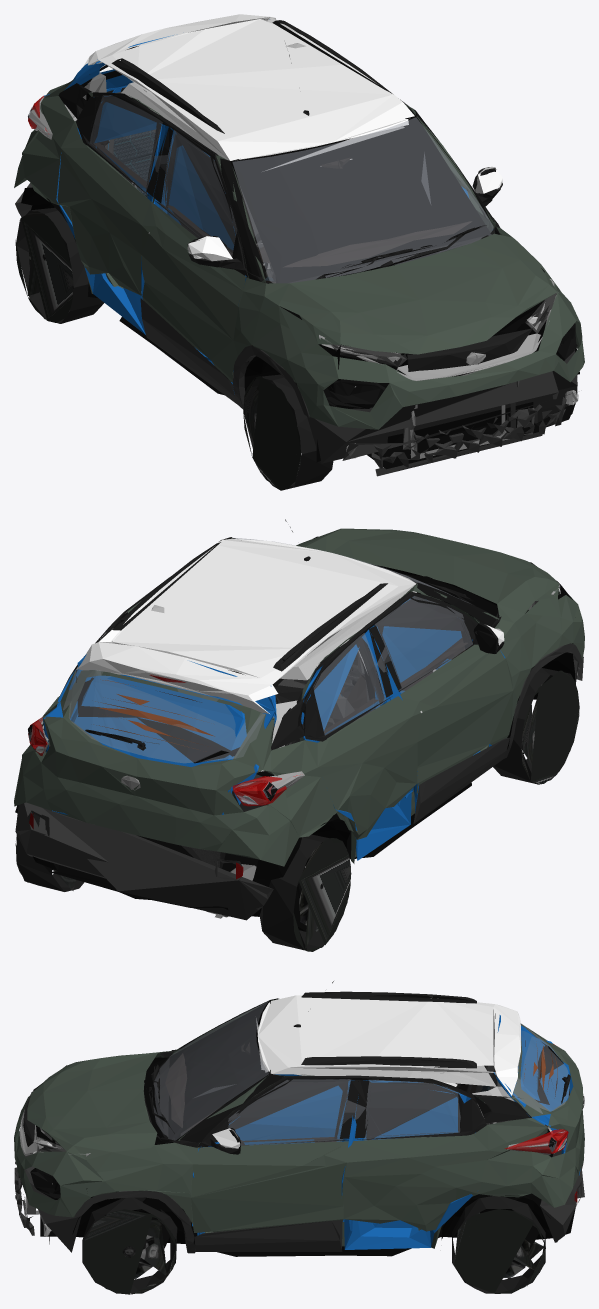
Rendered from punch.glb.
The picture shows the model from 3 angles, top to bottom: view 1: azimuth 30°, elevation 25°; view 2: azimuth 150°, elevation 25°; view 3: azimuth 270°, elevation 25°; orthographic projection. The views are drawn at different scales.
Visible parts, largest first — view 1: Mesh_005_prim85, Mesh_005_prim13, Mesh_005_prim15, Mesh_005_prim30, Mesh_005_prim20, Mesh_005_prim48, Mesh_005_prim36, Mesh_005_prim0, Mesh_005_prim5, Mesh_005_prim37, Mesh_005_prim86, Mesh_005_prim4 (+6 smaller); view 2: Mesh_005_prim85, Mesh_005_prim30, Mesh_005_prim13, Mesh_005_prim20, Mesh_005_prim0, Mesh_005_prim36, Mesh_005_prim48, Mesh_005_prim15, Mesh_005_prim37, Mesh_005_prim5, Mesh_005_prim72, Mesh_005_prim86 (+6 smaller); view 3: Mesh_005_prim85, Mesh_005_prim13, Mesh_005_prim30, Mesh_005_prim48, Mesh_005_prim15, Mesh_005_prim0, Mesh_005_prim36, Mesh_005_prim20, Mesh_005_prim5, Mesh_005_prim37, Mesh_005_prim86, Mesh_005_prim72 (+5 smaller).
Part boxes in pixels (x1,y1,x2,y2): Mesh_005_prim85: [14, 79, 584, 429]; Mesh_005_prim13: [90, 95, 493, 282]; Mesh_005_prim15: [21, 19, 579, 469]; Mesh_005_prim30: [83, 14, 502, 261]; Mesh_005_prim20: [15, 101, 577, 476]; Mesh_005_prim48: [58, 43, 502, 283]; Mesh_005_prim36: [15, 210, 577, 489]; Mesh_005_prim0: [44, 19, 493, 394]; Mesh_005_prim5: [87, 20, 556, 371]; Mesh_005_prim37: [16, 207, 576, 490]; Mesh_005_prim86: [93, 142, 471, 345]; Mesh_005_prim4: [29, 97, 577, 458]; Mesh_005_prim85: [14, 528, 584, 866]; Mesh_005_prim30: [76, 538, 504, 717]; Mesh_005_prim13: [63, 538, 472, 762]; Mesh_005_prim20: [15, 600, 583, 920]; Mesh_005_prim0: [43, 598, 505, 860]; Mesh_005_prim36: [15, 670, 579, 951]; Mesh_005_prim48: [58, 519, 504, 750]; Mesh_005_prim15: [15, 536, 575, 931]; Mesh_005_prim37: [16, 668, 575, 950]; Mesh_005_prim5: [112, 542, 558, 738]; Mesh_005_prim72: [151, 584, 416, 680]; Mesh_005_prim86: [324, 638, 467, 734]; Mesh_005_prim85: [14, 999, 584, 1248]; Mesh_005_prim13: [154, 1001, 569, 1145]; Mesh_005_prim30: [212, 995, 520, 1147]; Mesh_005_prim48: [143, 981, 570, 1154]; Mesh_005_prim15: [33, 1000, 576, 1256]; Mesh_005_prim0: [192, 1015, 580, 1249]; Mesh_005_prim36: [83, 1209, 545, 1294]; Mesh_005_prim20: [14, 1124, 584, 1253]; Mesh_005_prim5: [23, 991, 509, 1151]; Mesh_005_prim37: [82, 1196, 545, 1293]; Mesh_005_prim86: [165, 1053, 457, 1145]; Mesh_005_prim72: [256, 1018, 496, 1086].
Size of the model in its own units: 1.94 by 1.9 by 3.79.
Materials: 74 (20 with a texture image).
